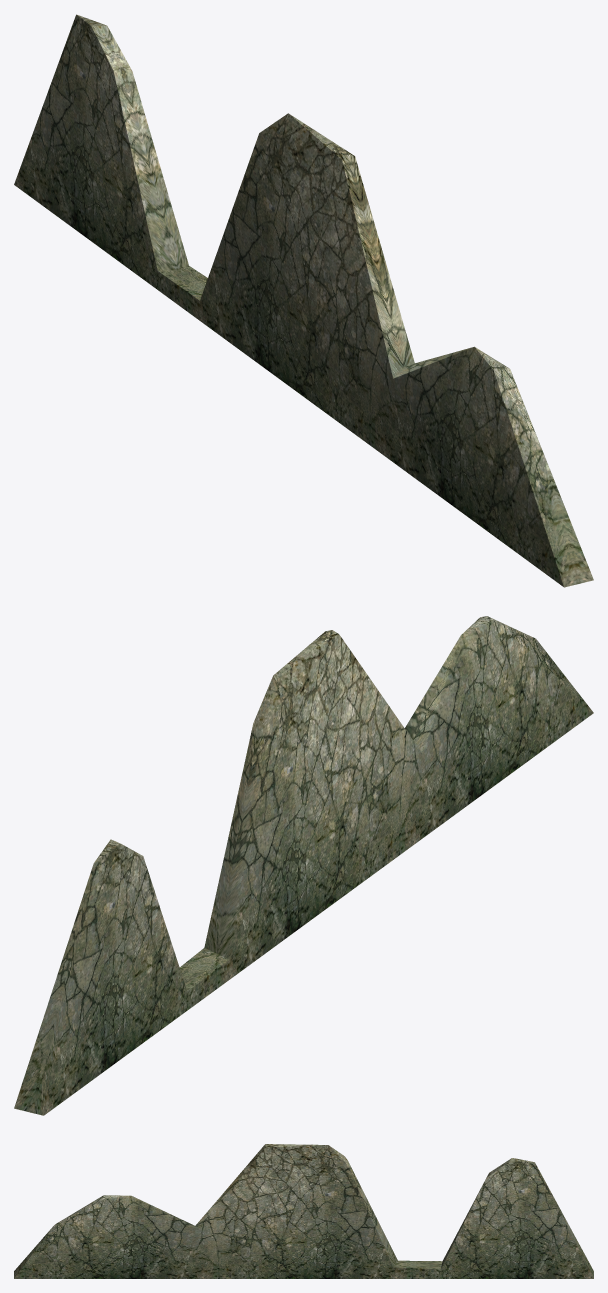
File: thm_nboo_gungan_wall_ruined_lg_s01_l3.fbx
The picture shows the model from 3 angles, top to bottom: view 1: azimuth 30°, elevation 25°; view 2: azimuth 150°, elevation 25°; view 3: azimuth 270°, elevation 25°; orthographic projection. The views are drawn at different scales.
Visible parts, largest first — view 1: mesh_node; view 2: mesh_node; view 3: mesh_node.
Part boxes in pixels (left/top/right/bottom): mesh_node: left=14, top=14, right=593, bottom=587; mesh_node: left=14, top=616, right=593, bottom=1115; mesh_node: left=14, top=1144, right=593, bottom=1278.
Size of the model in its own units: 0.5 by 4.05 by 16.
